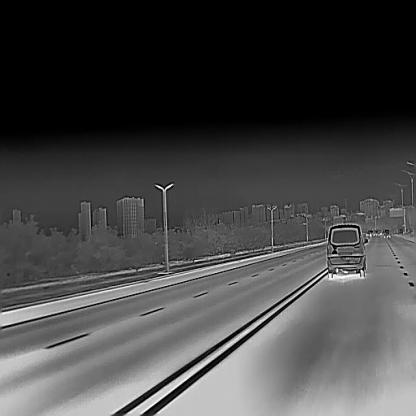car: (326, 222, 368, 278), (383, 228, 389, 237)
